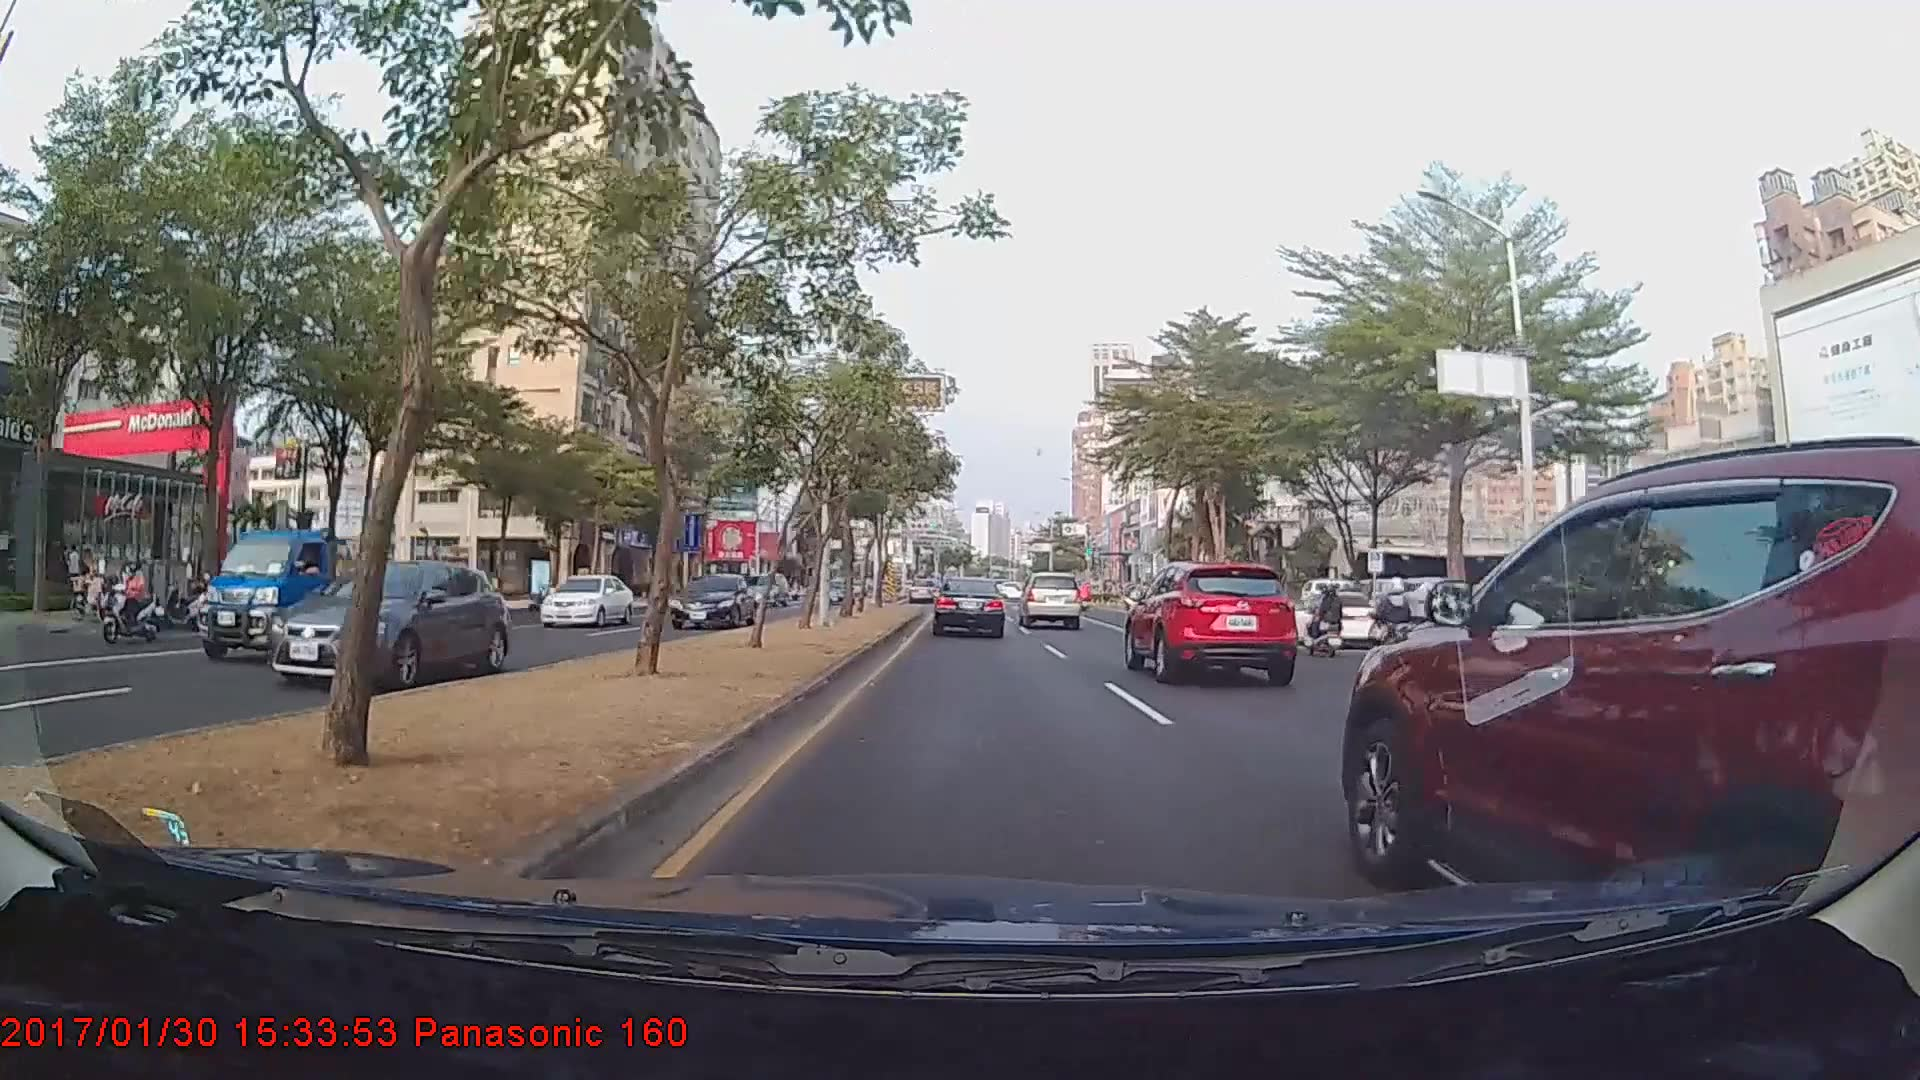rider: (1360, 573, 1423, 667), (100, 555, 163, 644), (1300, 580, 1351, 666)
vehicle: (1341, 447, 1919, 976), (266, 560, 512, 687), (193, 527, 393, 660), (1123, 554, 1300, 685), (1285, 592, 1379, 649), (537, 573, 634, 627), (666, 573, 756, 629), (931, 575, 1006, 638), (1018, 571, 1082, 629), (908, 578, 938, 604)
